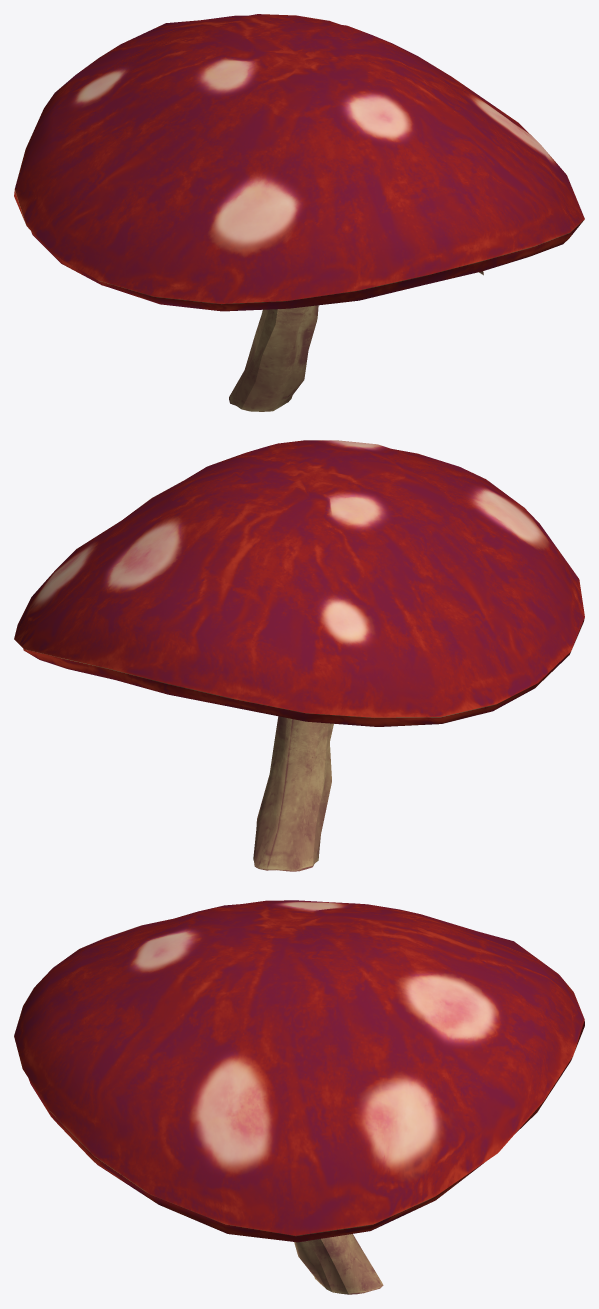
The model's file is mushroom1_low.fbx.
3 renders of one model, top to bottom at view 1: azimuth 30°, elevation 25°; view 2: azimuth 150°, elevation 25°; view 3: azimuth 270°, elevation 25°, orthographic.
Parts seen in each view (by area): view 1: polySurface1; view 2: polySurface1; view 3: polySurface1.
Part boxes in pixels (x1,y1,x2,y2): polySurface1: [14, 14, 584, 411]; polySurface1: [14, 440, 584, 871]; polySurface1: [14, 900, 584, 1294].
Bounding box in the file's own units: 44.16 × 30.65 × 43.79.
